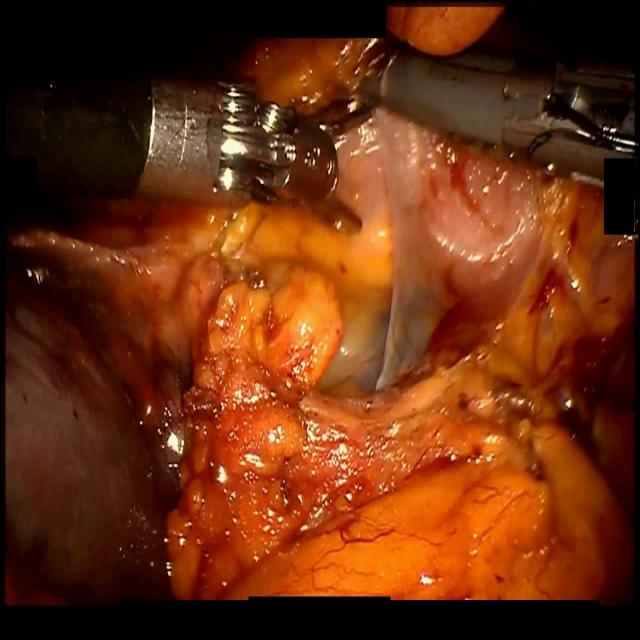surgical-area: (0, 109, 638, 606)
surgical-tool: (0, 39, 640, 236)
